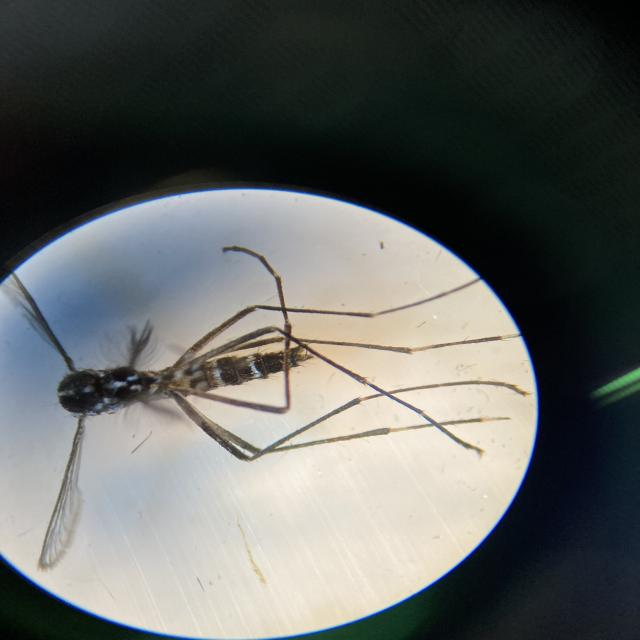albopictus: (0, 230, 507, 531)
